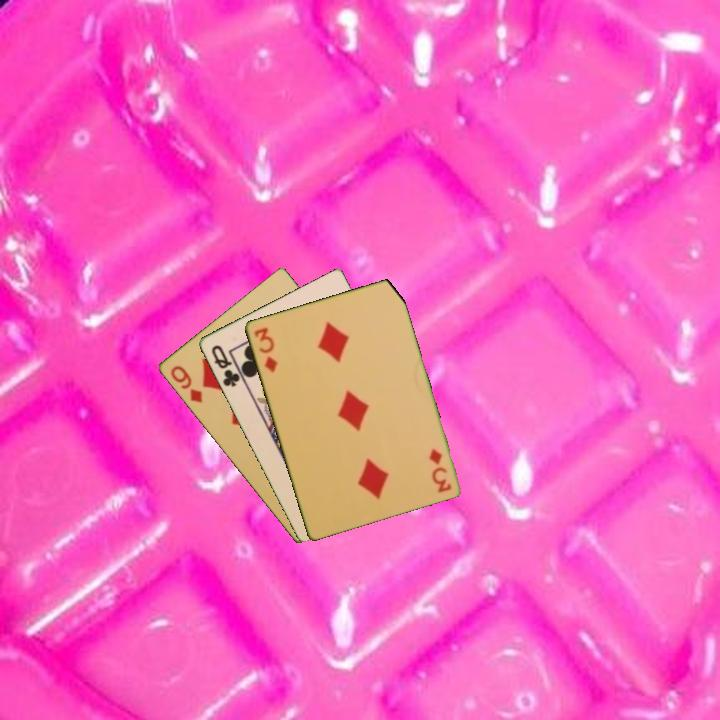3d: (250, 323, 280, 375), (425, 444, 454, 495)
9d: (166, 362, 205, 406)
Qc: (207, 341, 243, 390)
